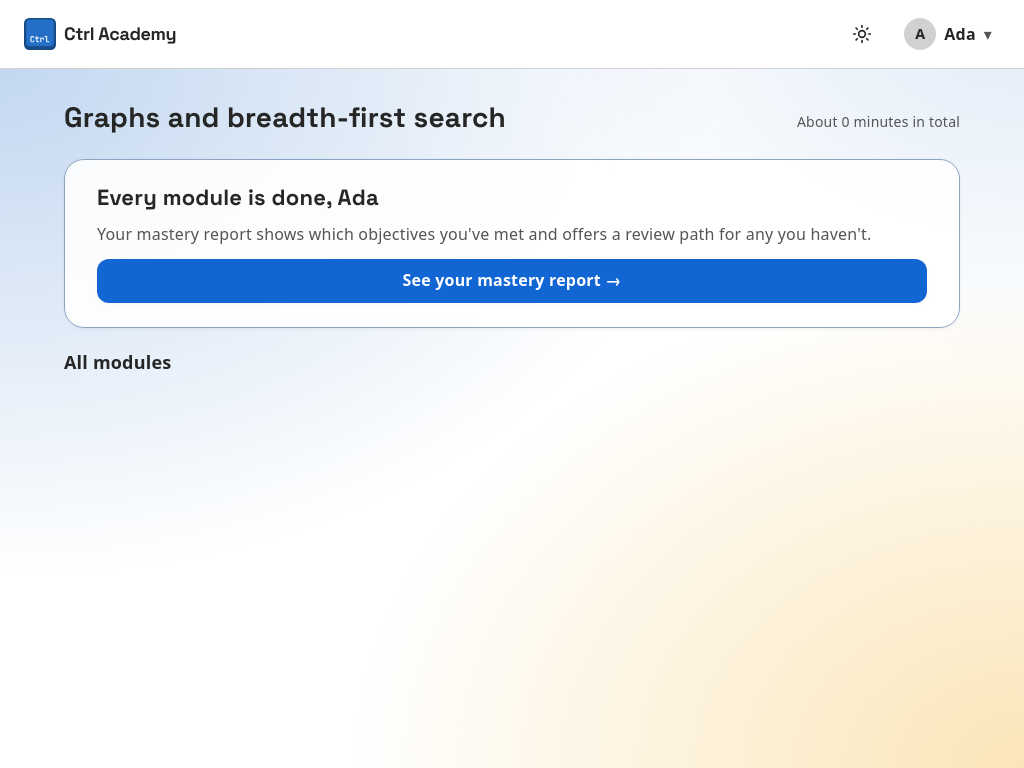
it: page background (#214) › switches from the header menu, with Light and Dark beside it, and is kept per student
The image size is (1024, 768).
Expected: the heading "Graphs and breadth-first search" is shown, [64, 101, 506, 135]
Click the button named "Theme and background": (862, 34) [840, 12, 884, 56]
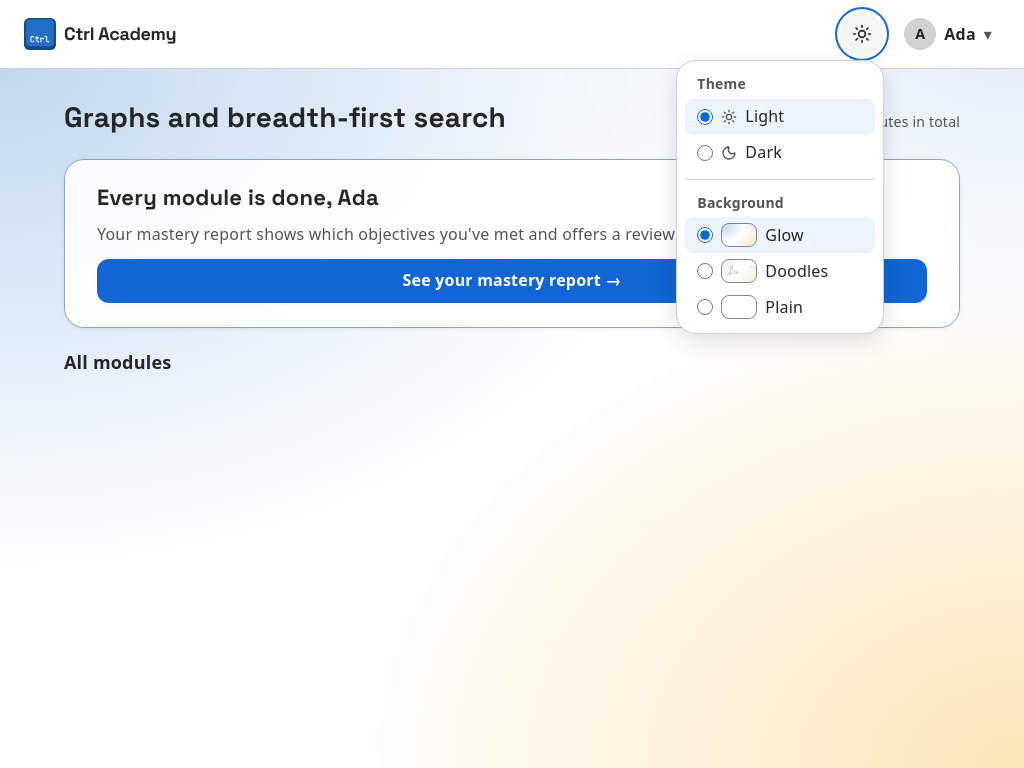
Result: the button named "Theme and background" is expanded at [840, 12, 884, 56]
Result: the radio button labelled "Glow" is checked at [697, 227, 713, 243]
Click the radio button labelled "Doodles": (705, 271) [697, 263, 713, 279]
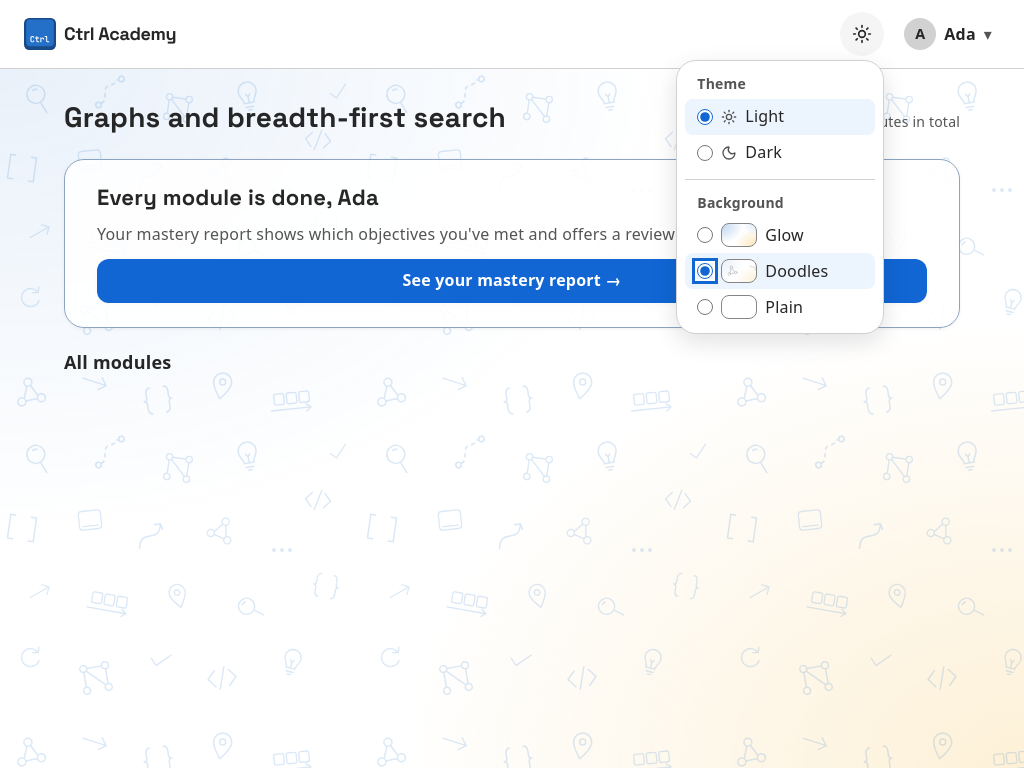
Click the radio button labelled "Plain": (705, 307) [697, 299, 713, 315]
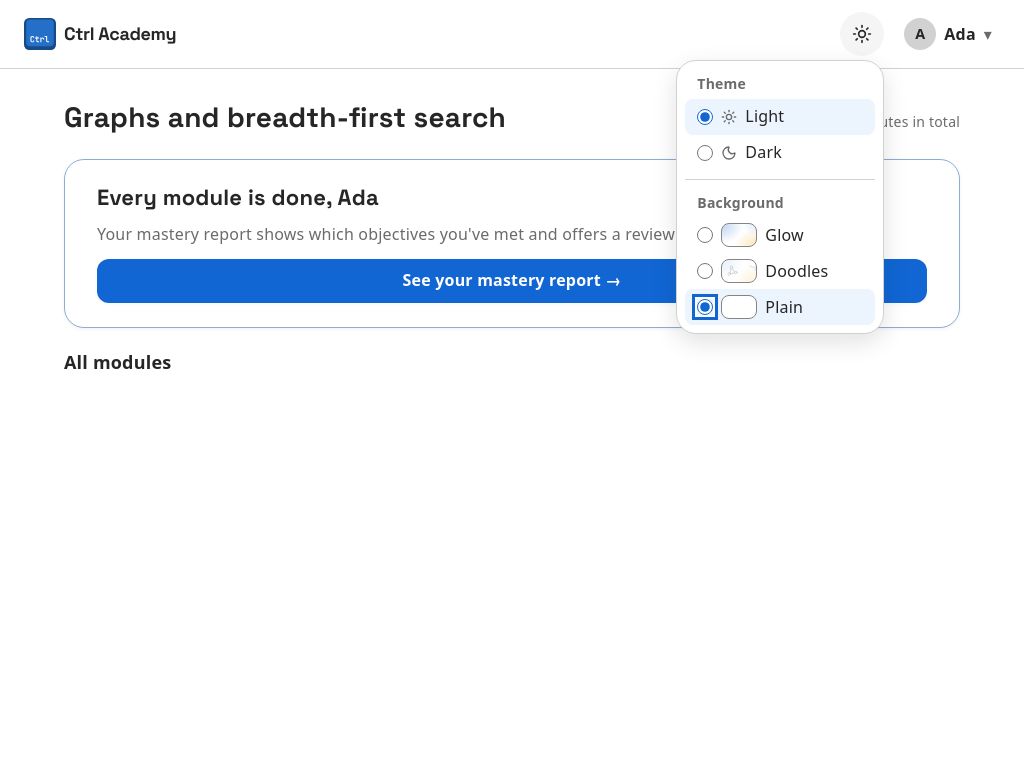
Click the radio button labelled "Dark": (705, 153) [697, 145, 713, 161]
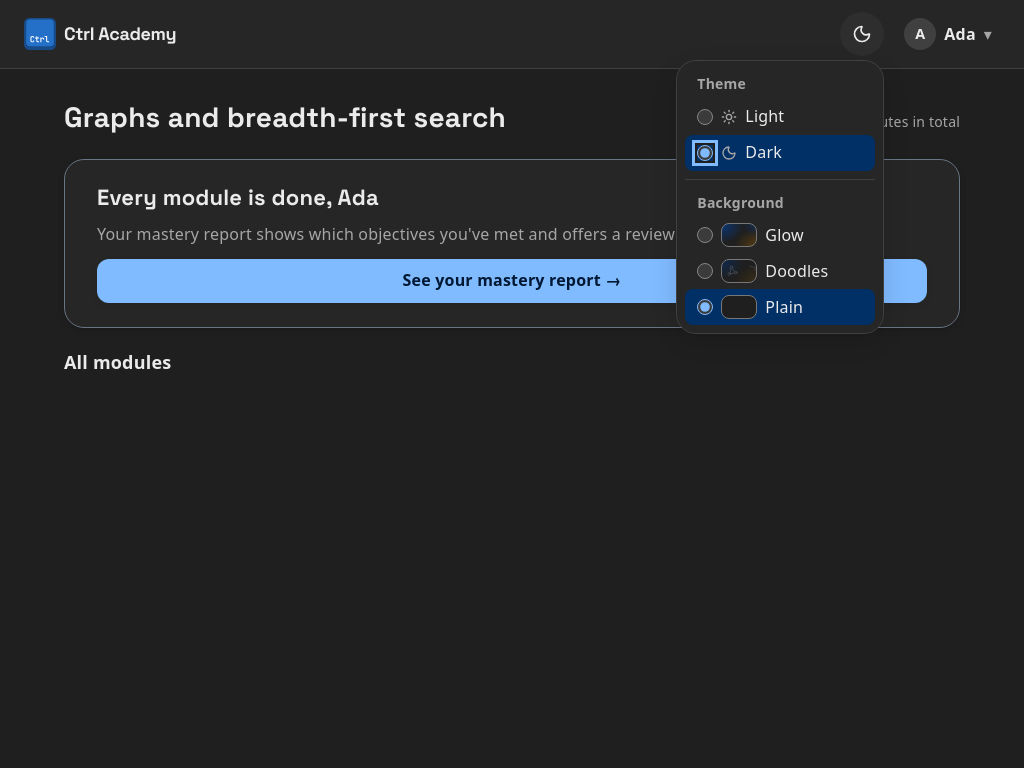
// Escape closes it and puts focus back on the button.
Press Escape
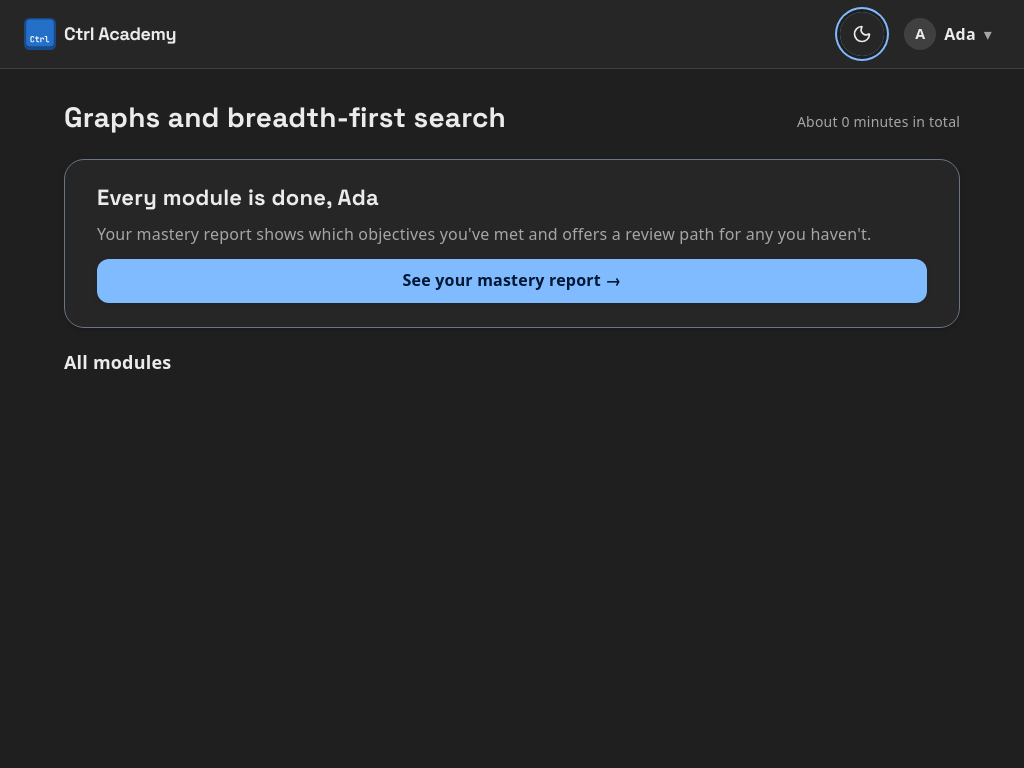
Result: the button named "Theme and background" is collapsed at [840, 12, 884, 56]
